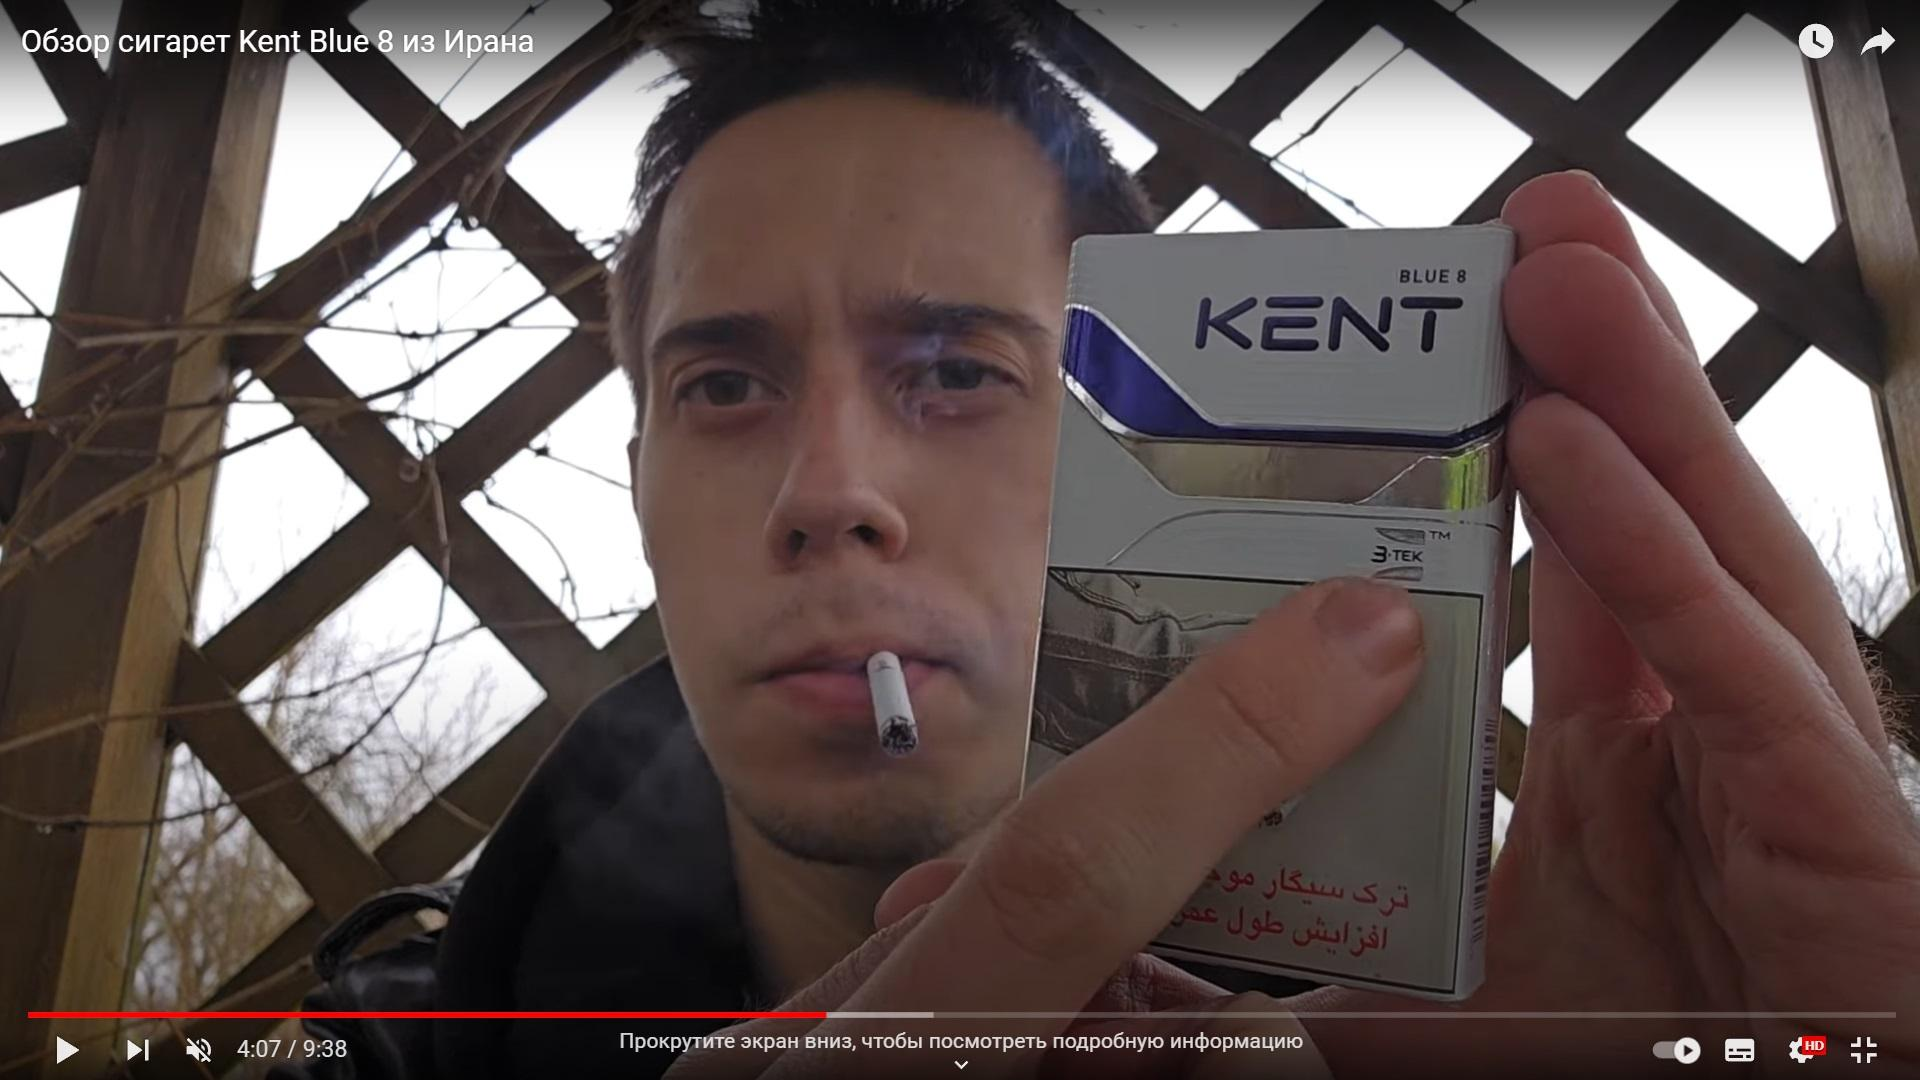cigarette: (866, 653, 919, 757)
